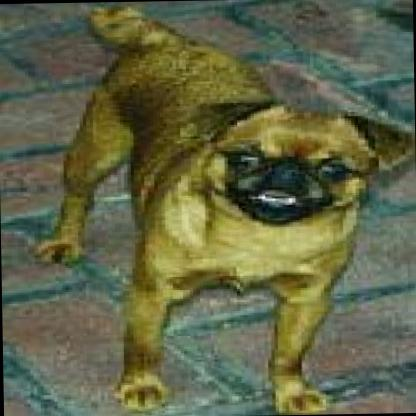Brabancon_griffon: (16, 0, 412, 415)
